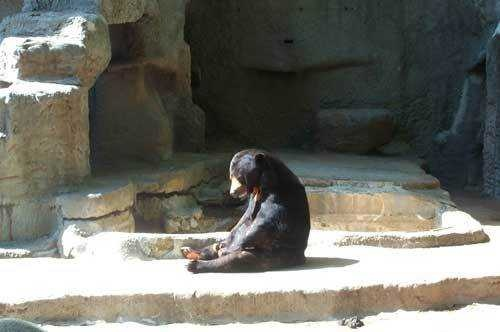bear: (190, 143, 318, 271)
